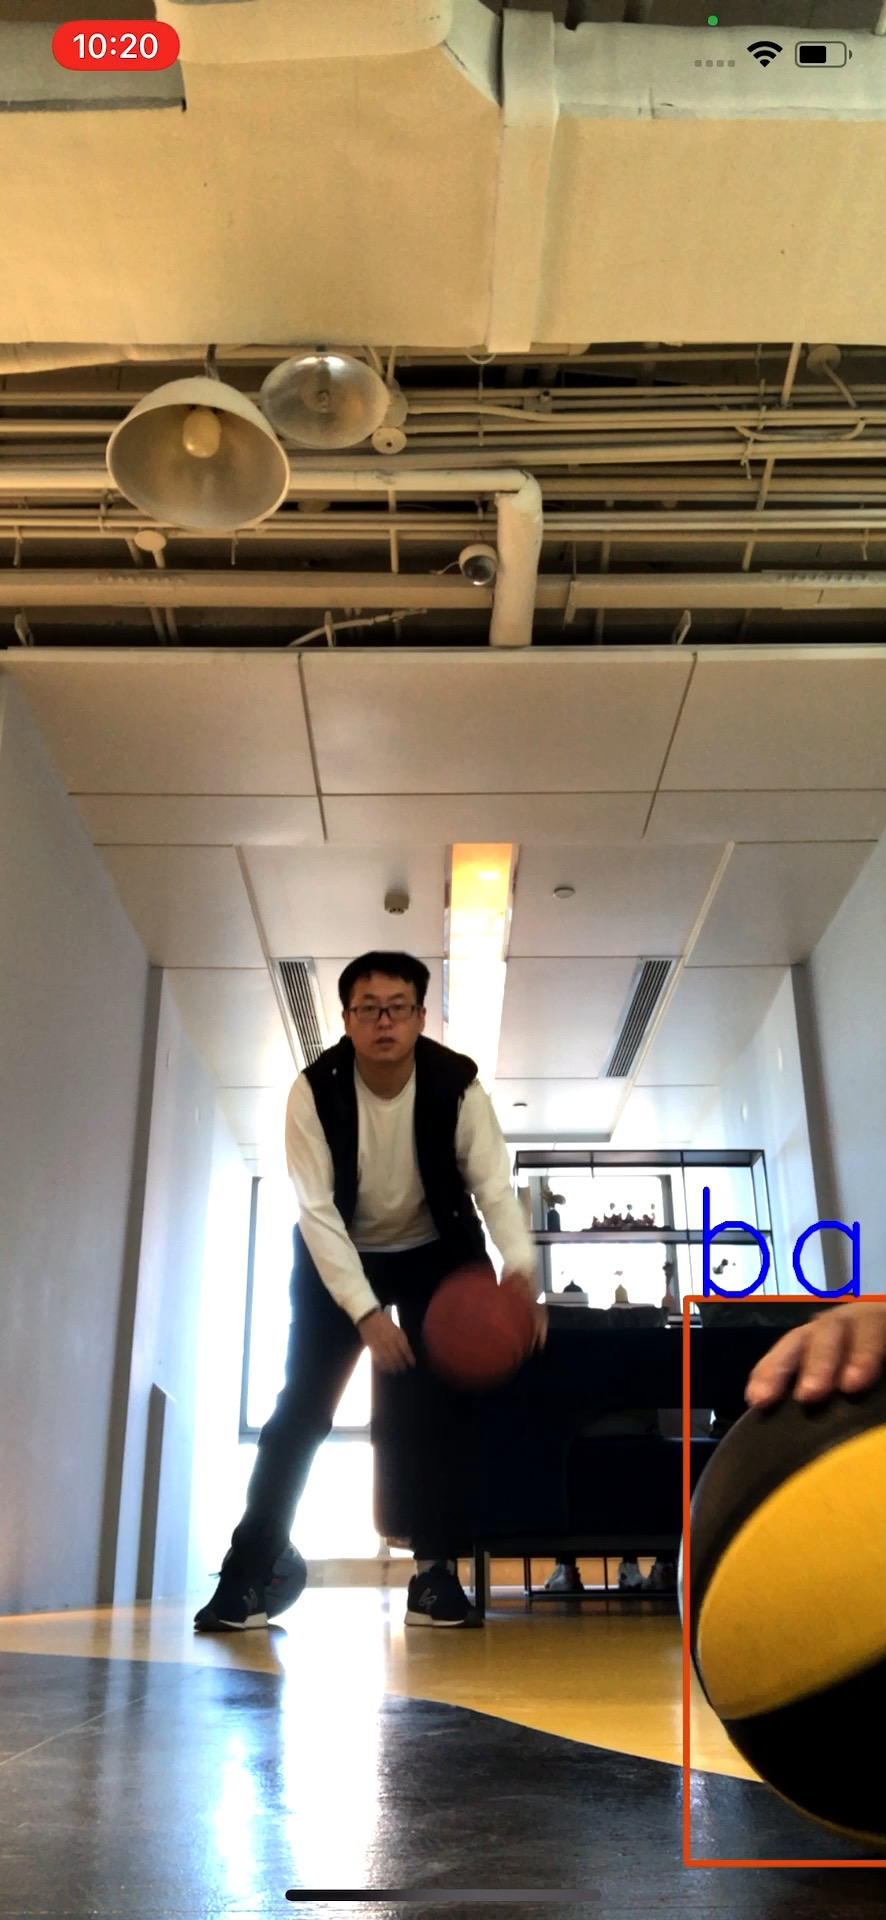ball: (687, 1357, 886, 1855), (430, 1272, 537, 1380)
